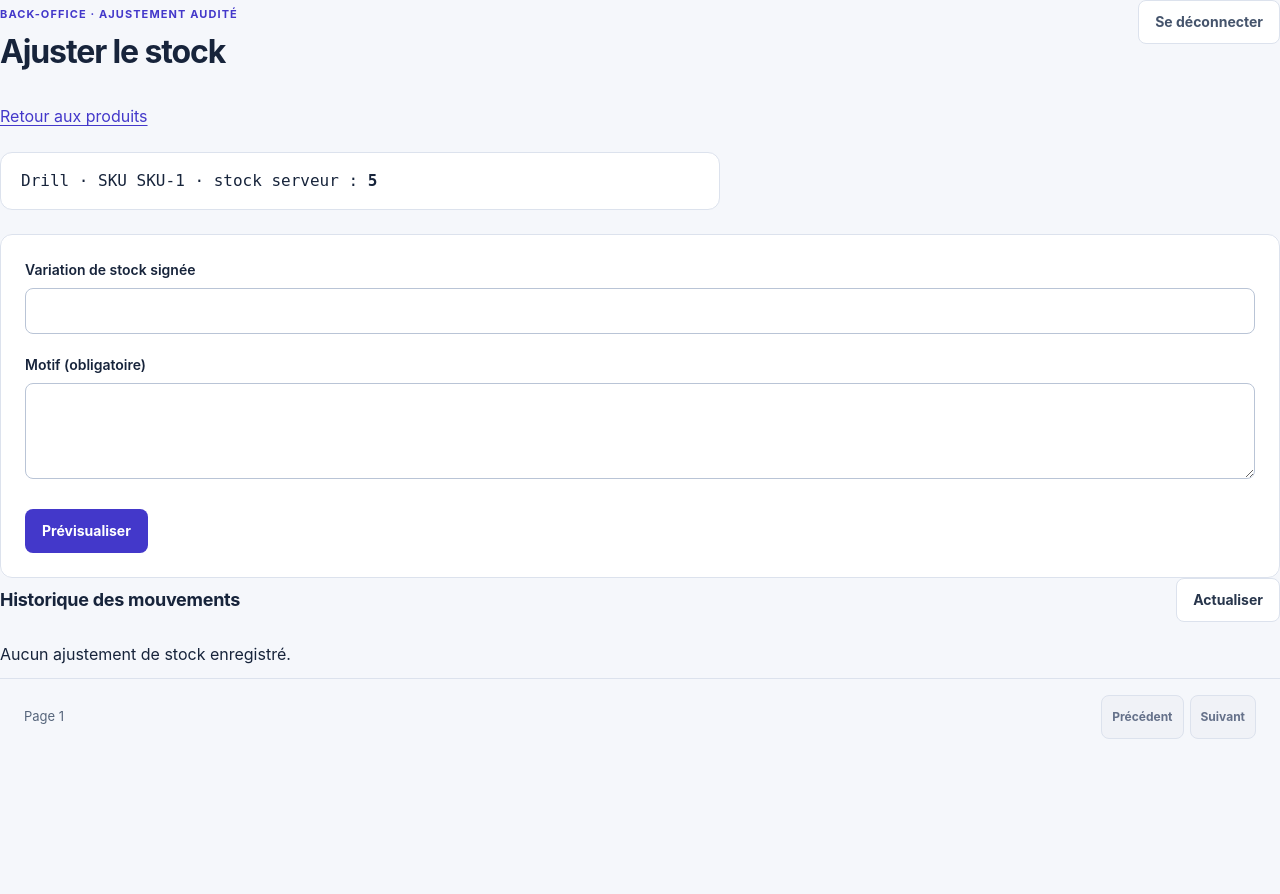
Scenario: reconciles an ambiguous committed operation and reads current stock
This screenshot has width=1280, height=894.
Type "3" into the field with id "stock-delta" at (640, 311), box [25,288,1255,334]
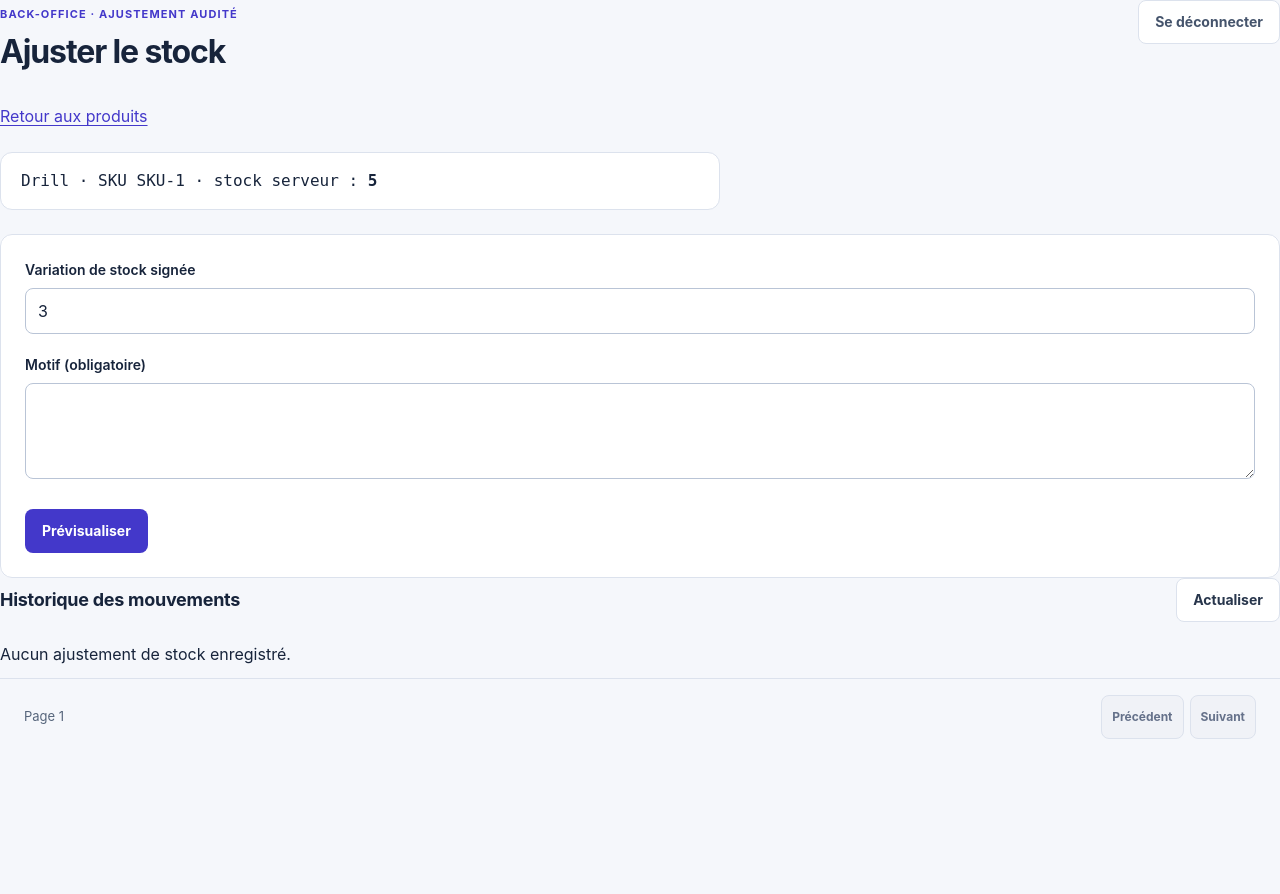
Type "delivery" into the text box with id "stock-reason" at (640, 431), box [25,383,1255,479]
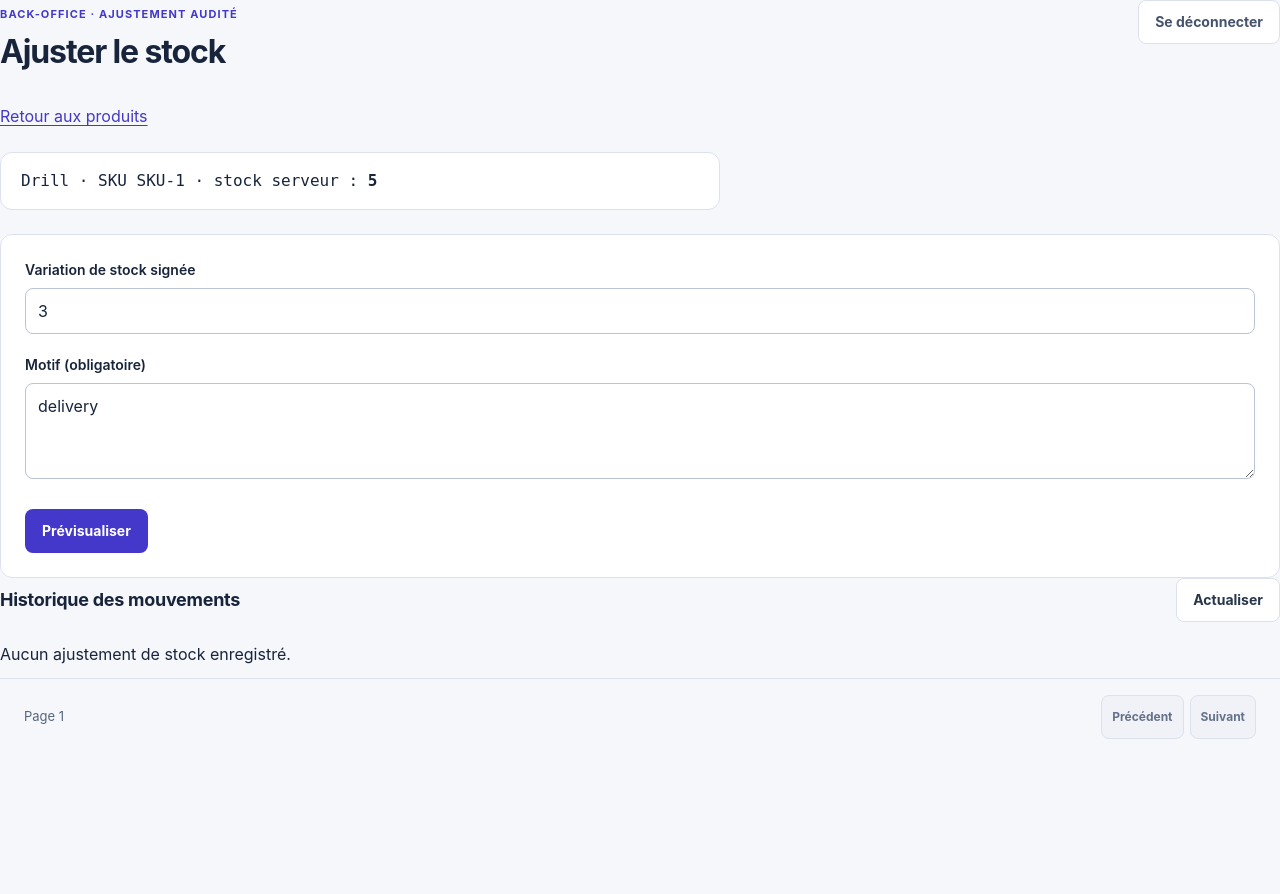
Submit the form, box [0,234,1279,578]
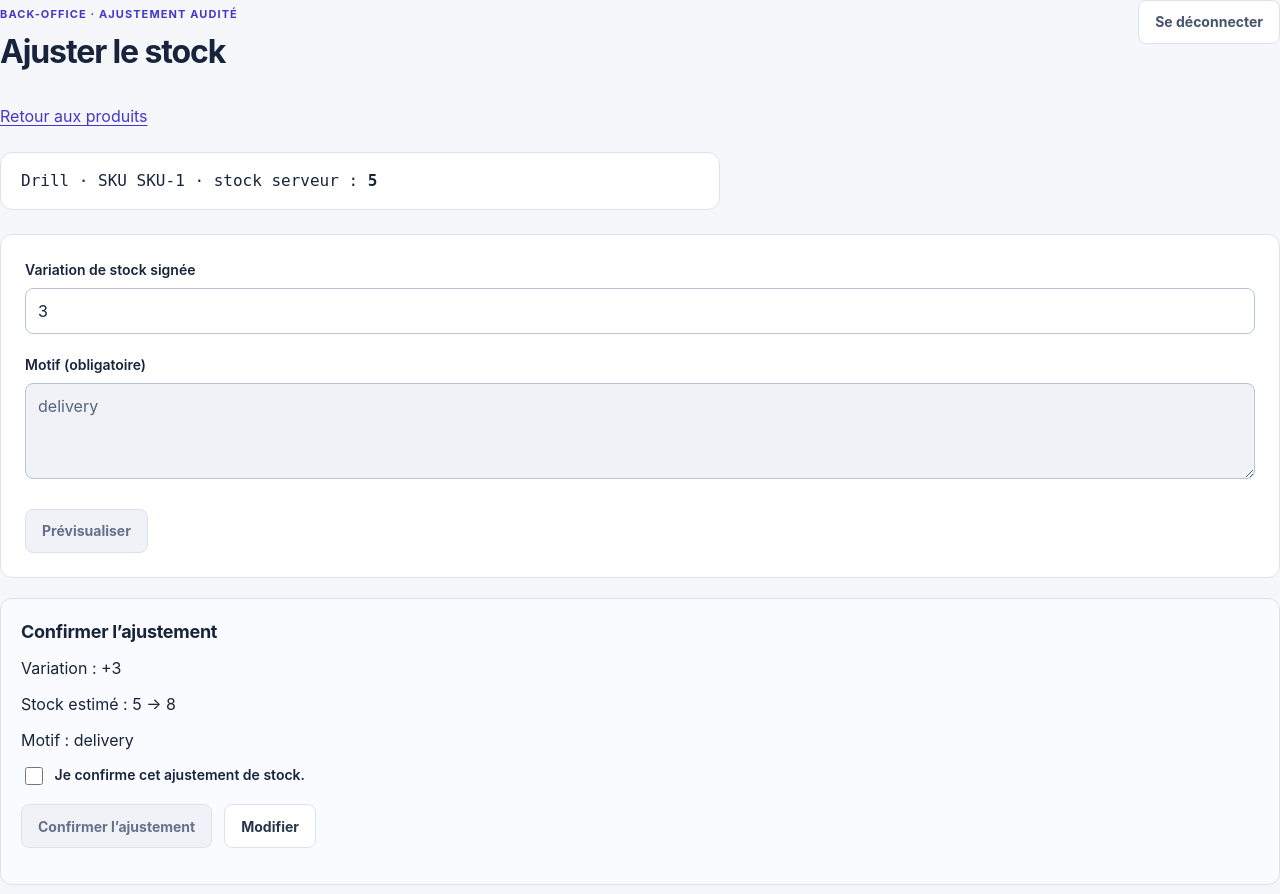
Click the checkbox labelled "Je confirme cet ajustement de stock." at (34, 776), box [25,767,43,785]
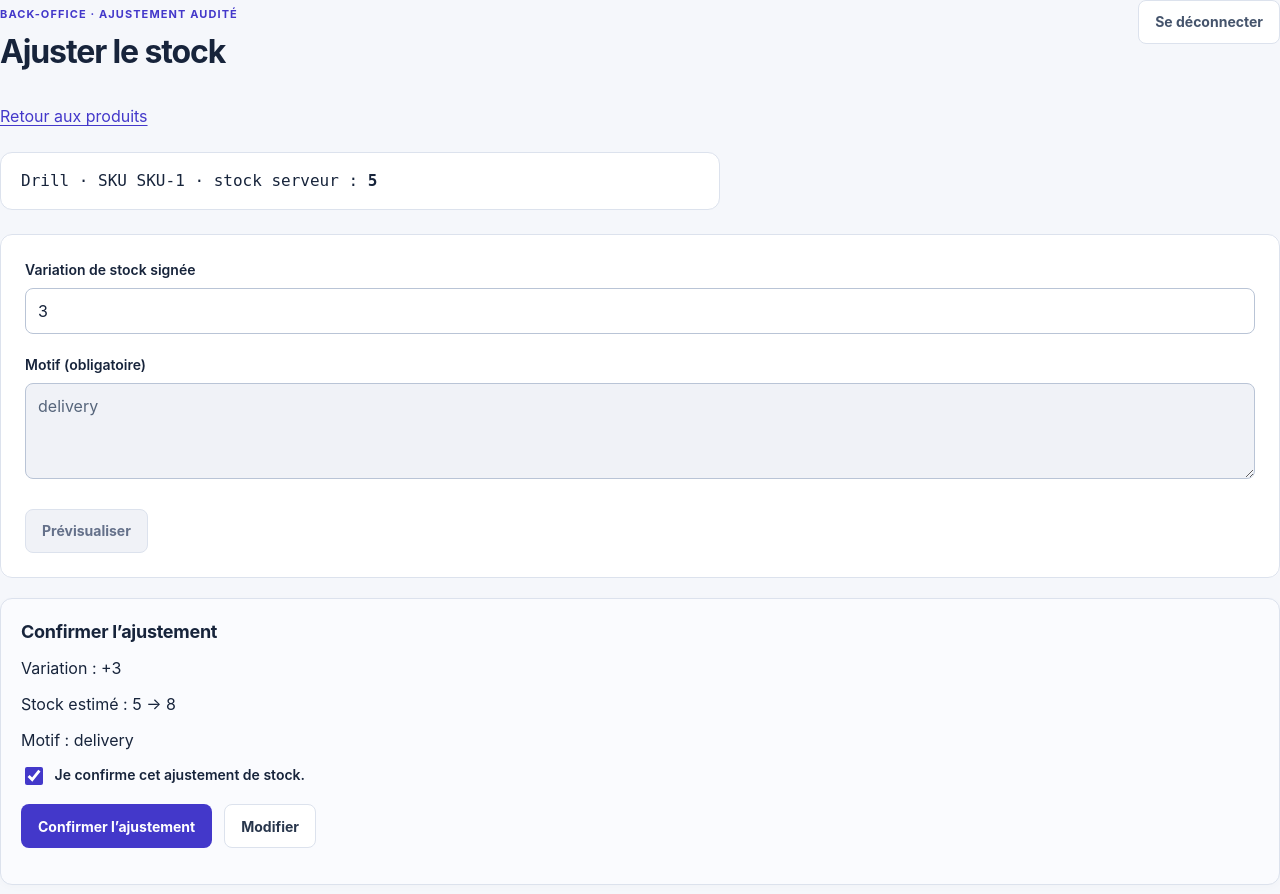
Click the button "Confirmer l’ajustement" at (117, 826), box [21,804,212,848]
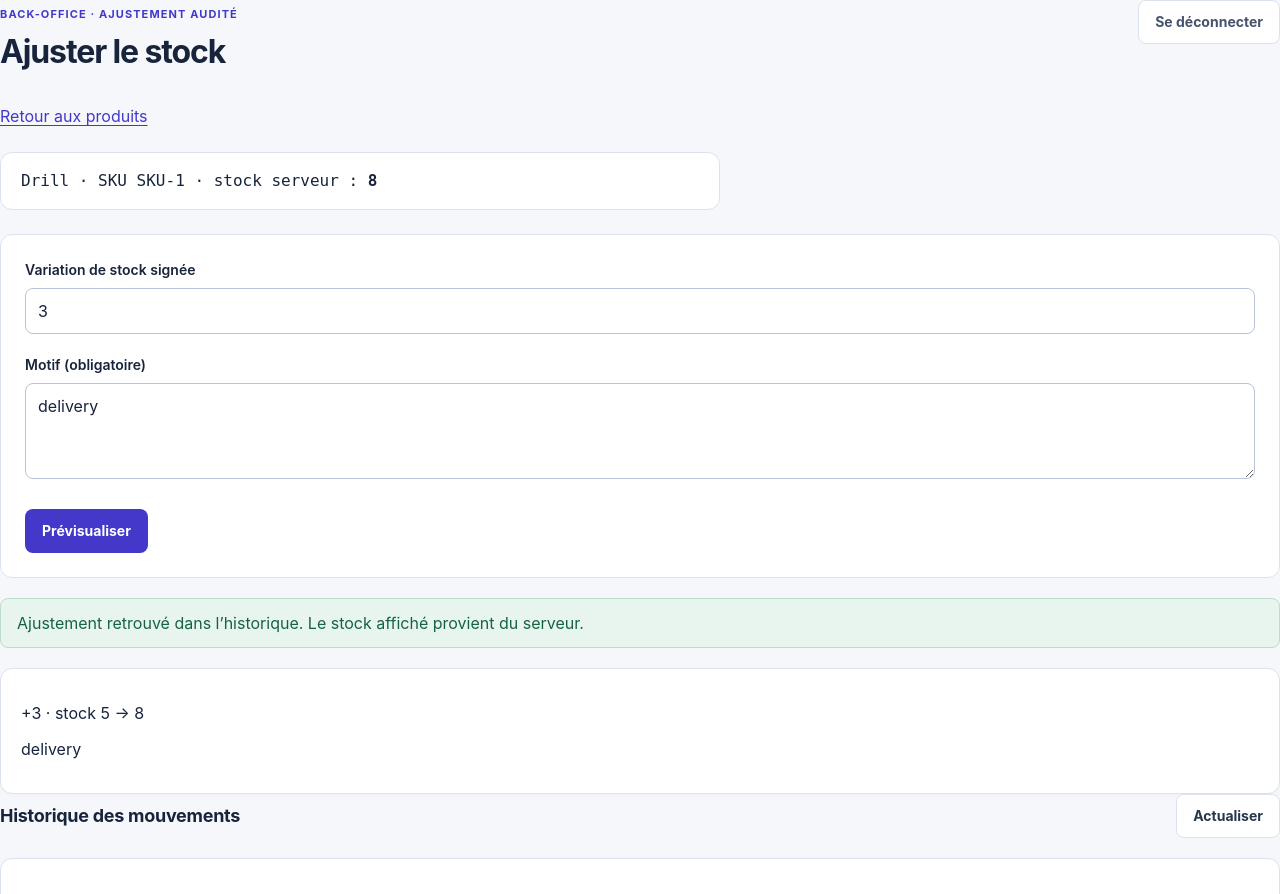
expect the field with id "stock-delta" is enabled: met, box [25,288,1255,334]
expect the text "Ajustement retrouvé dans l’historique" is shown: met, box [17,613,584,633]
expect the text "stock serveur : 8" is shown: met, box [0,152,720,210]
